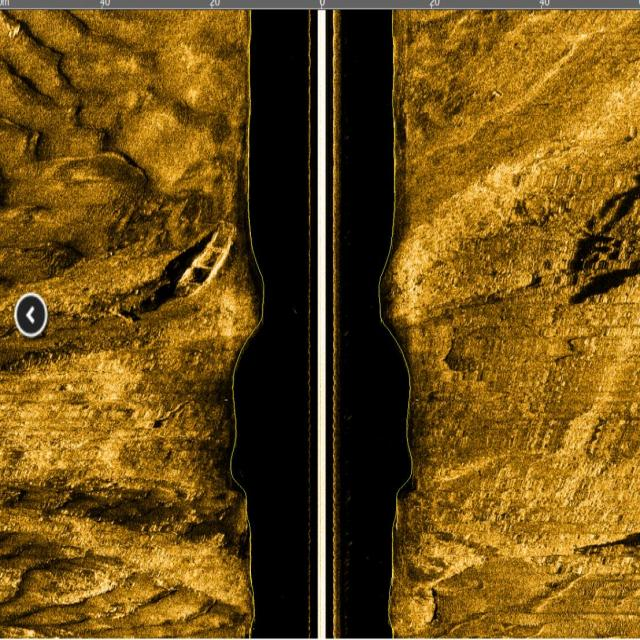ship: (175, 209, 238, 303)
